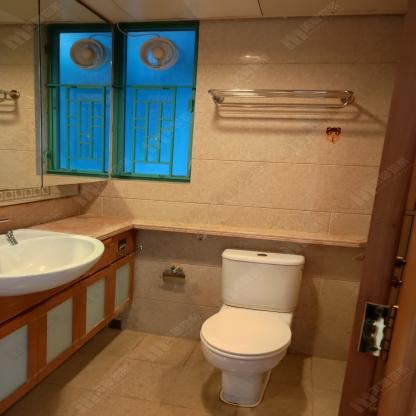Exhaust Fan: (138, 35, 180, 72)
Toilet: (194, 247, 305, 410)
Toilet Sink: (0, 227, 107, 297)
